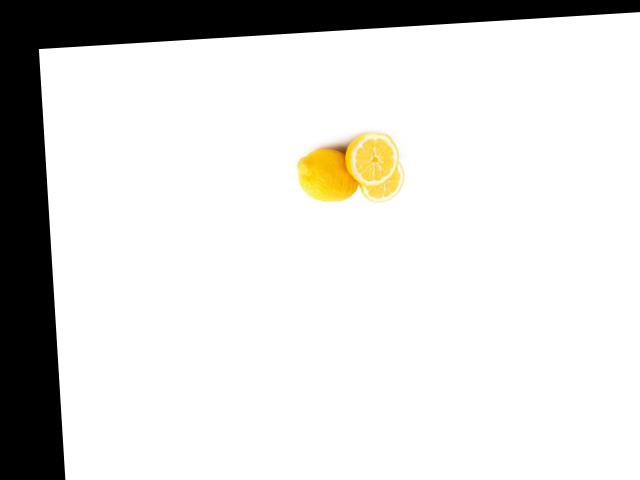lemon: (291, 145, 360, 206)
